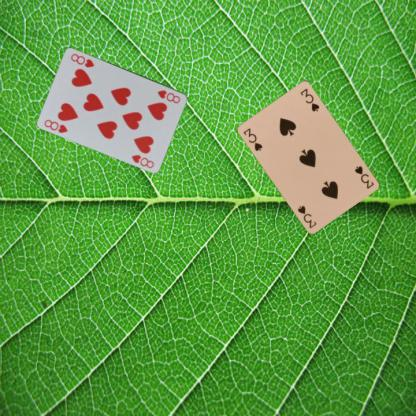3s: (352, 164, 376, 190), (241, 126, 264, 152)
8h: (155, 87, 181, 105), (42, 117, 69, 134)
